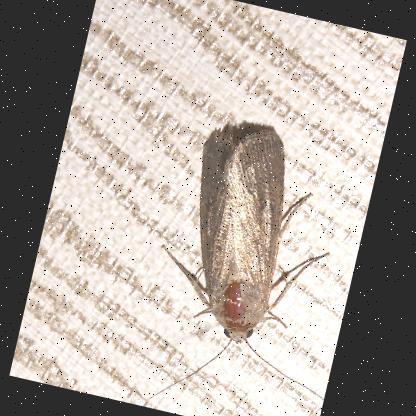Fall Armyworm Moth: (123, 107, 381, 416)
